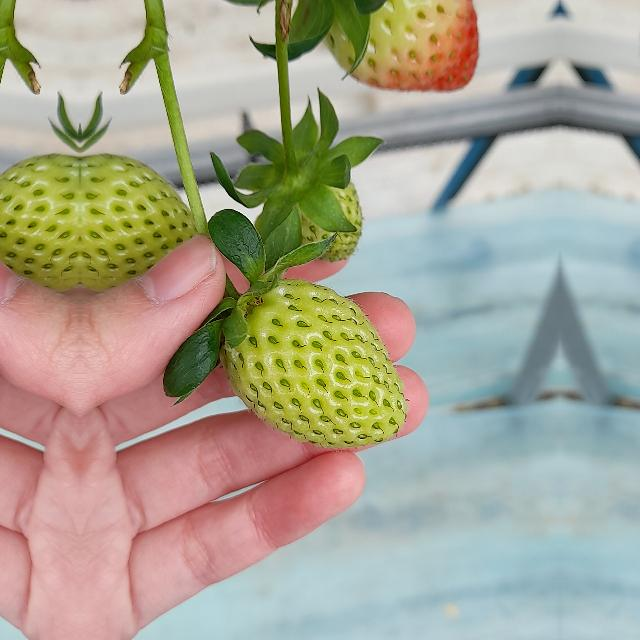Health_25: (218, 278, 408, 448), (80, 153, 200, 297), (0, 153, 80, 297)
Health_75: (319, 0, 483, 94)
